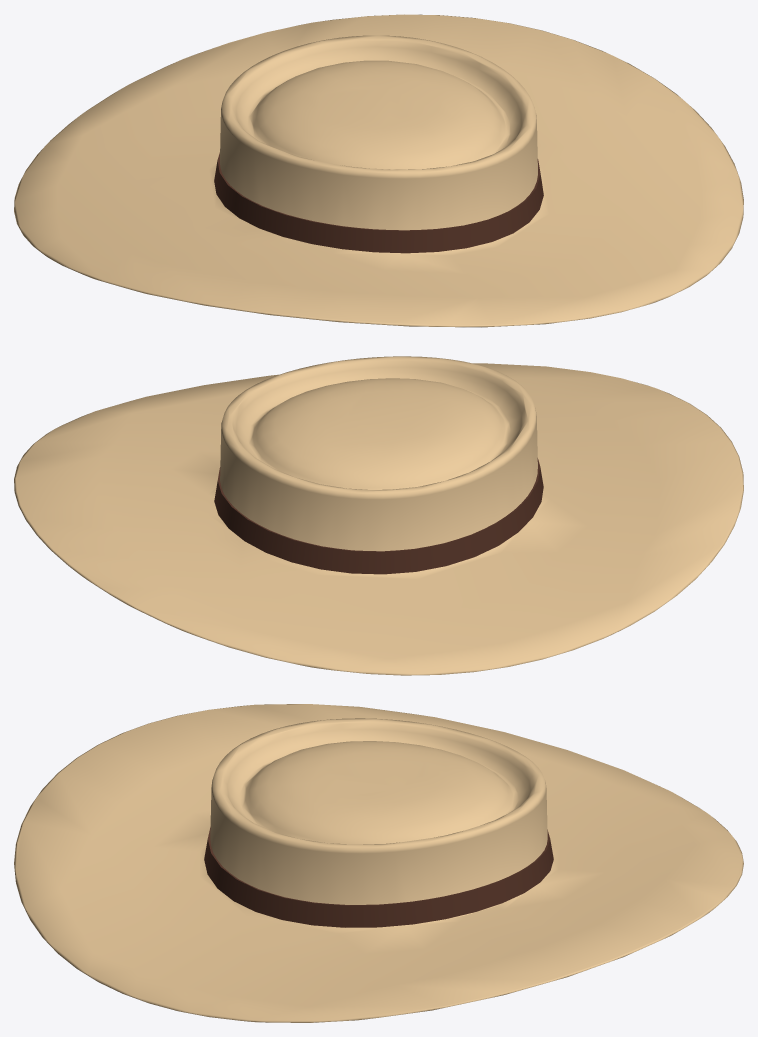
File: StrawHat1Simpler.fbx
3 views of the same model, one above another, from view 1: azimuth 30°, elevation 25°; view 2: azimuth 150°, elevation 25°; view 3: azimuth 270°, elevation 25° (orthographic).
Visible parts, largest first — view 1: Circle; view 2: Circle; view 3: Circle.
Part boxes in pixels (x1,y1,x2,y2): Circle: [14, 14, 743, 327]; Circle: [14, 356, 743, 675]; Circle: [14, 704, 743, 1022].
Bounding box in the file's own units: 215 × 35.17 × 215.
